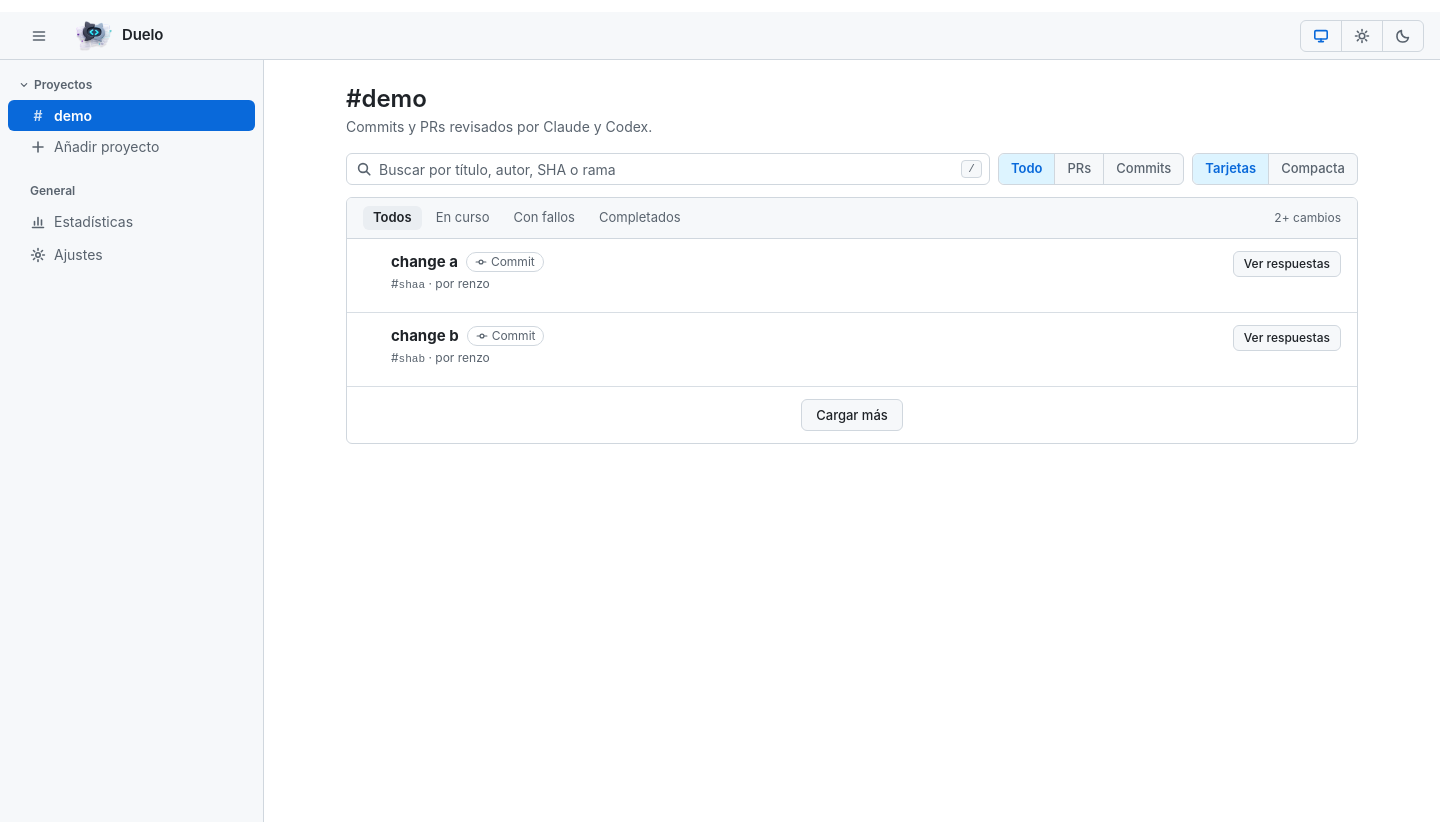
Test case: load more › sends the search and the filters again when loading more
expect the text "change a" is shown: met, box [391,252,458,270]
Click the button "Con fallos" at (544, 218), box [504,206,585,230]
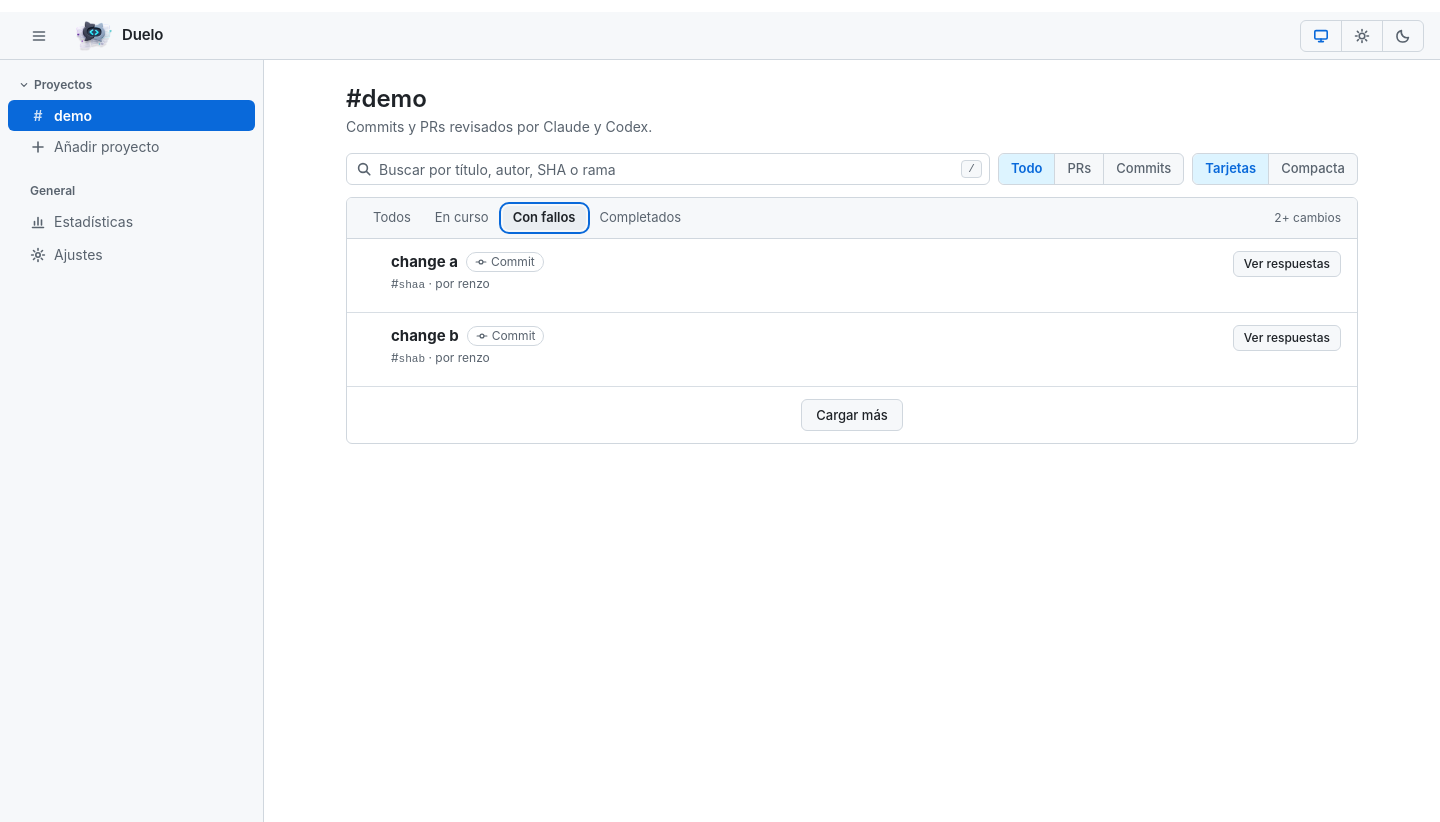
Type " sha " into the search field named "Buscar cambios" at (668, 169), box [346,153,990,185]
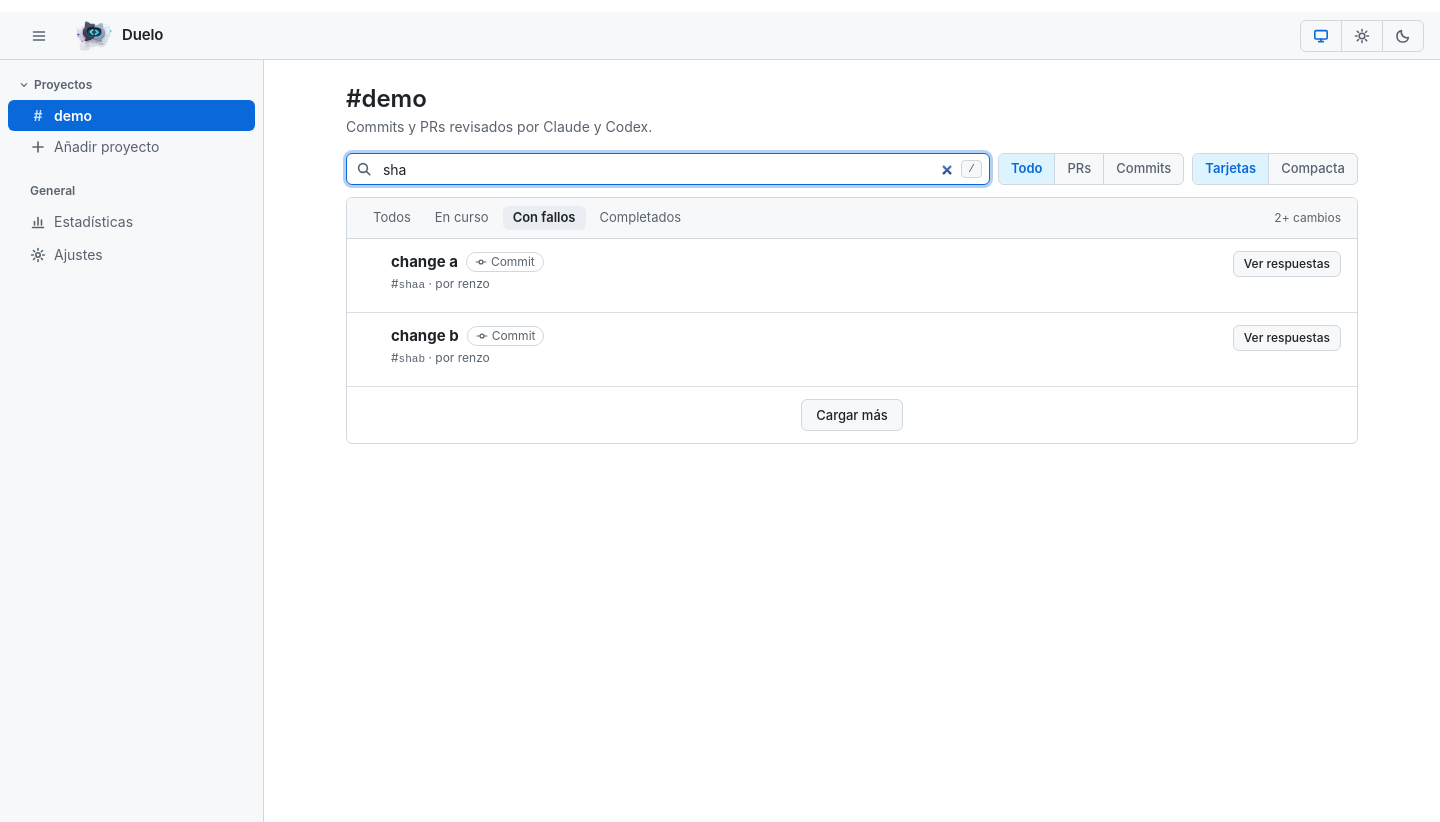
Click the button "Cargar más" at (852, 415), box [801,399,903,431]
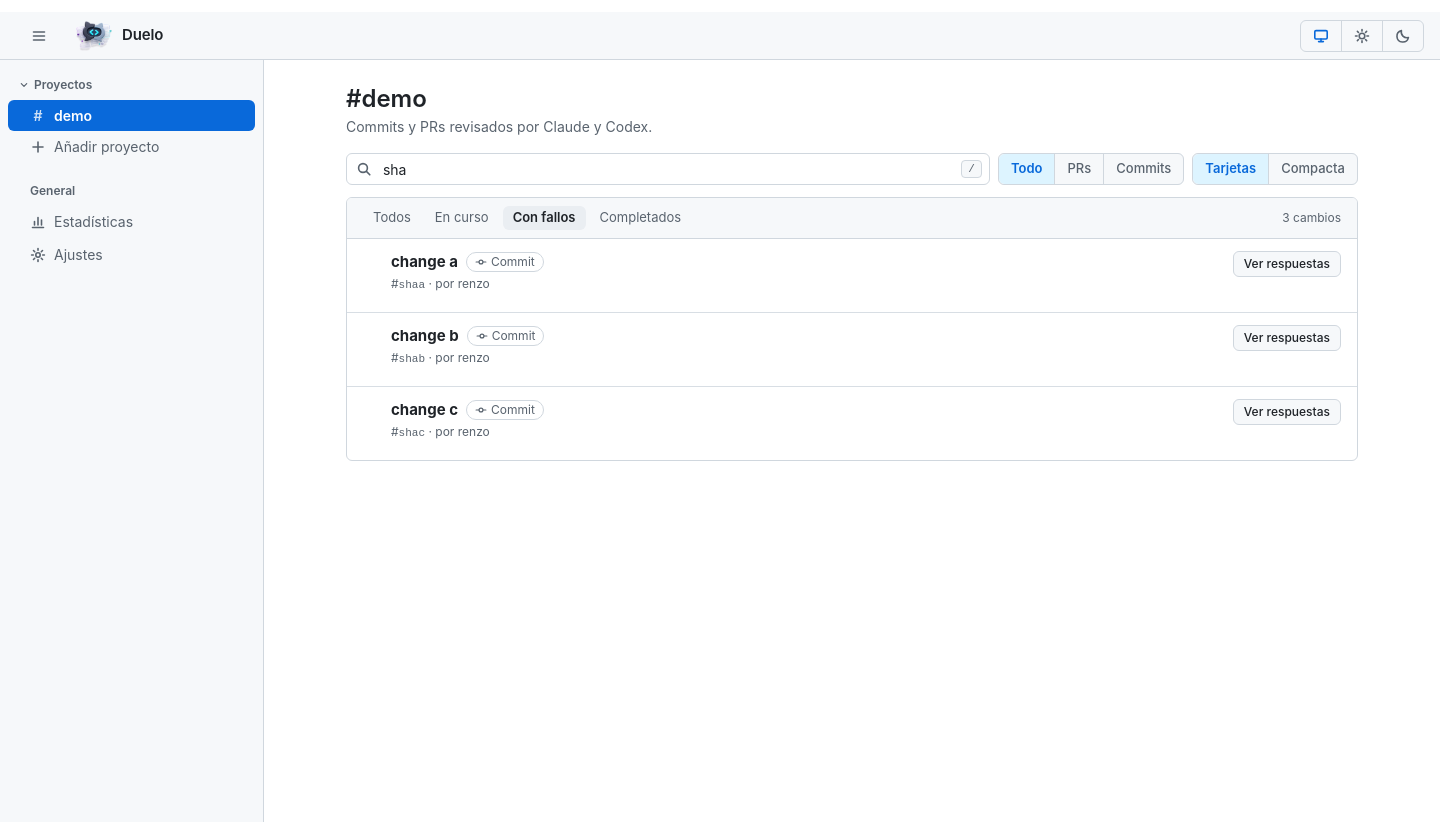
expect the text "change c" is shown: met, box [391,400,458,419]
